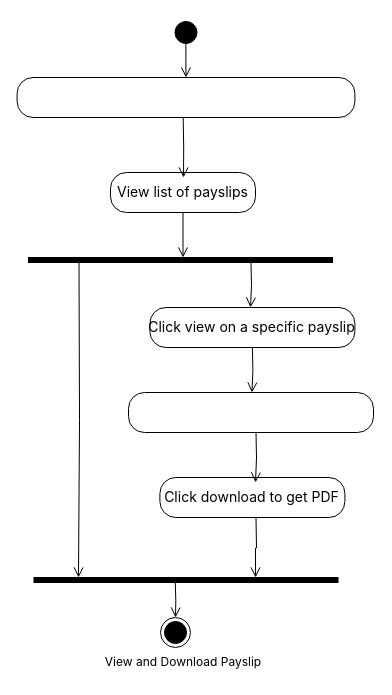
This 392x695 diagram has some shape labels left out. The centre of each missing label's shape, as x and y in pixels:
"Navigate to My Payslips page / employee profile" goes at (x=185, y=97).
"View payslip details in HTML format" goes at (x=251, y=412).
